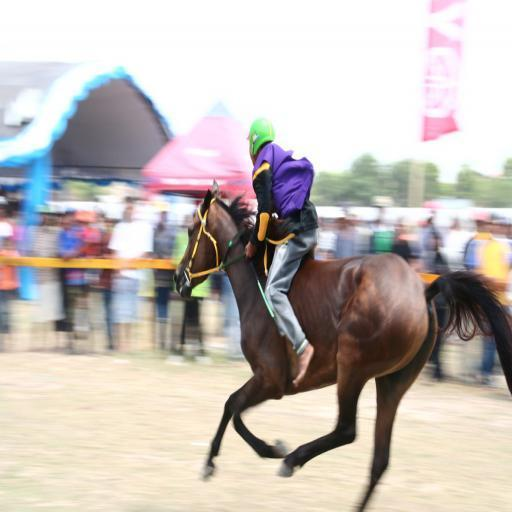horse: (172, 178, 512, 512)
